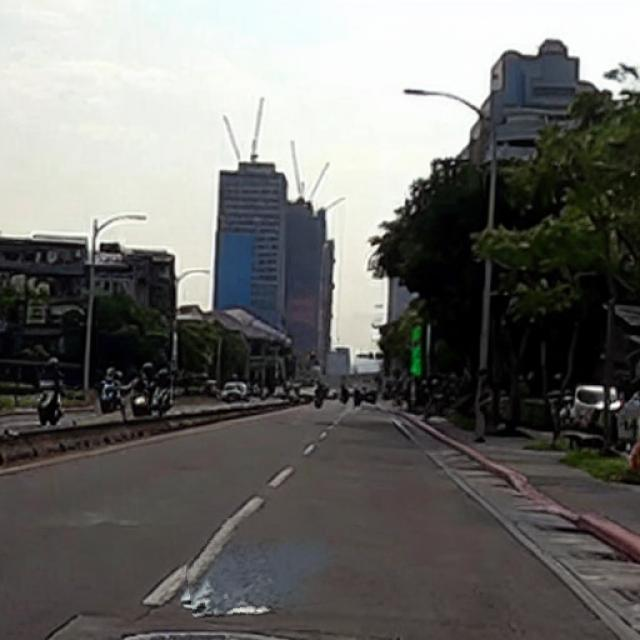puddle: (185, 511, 335, 619)
